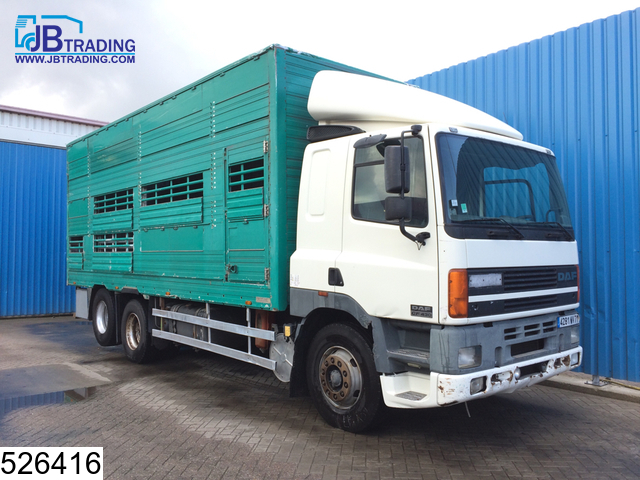truck: (271, 69, 584, 433)
